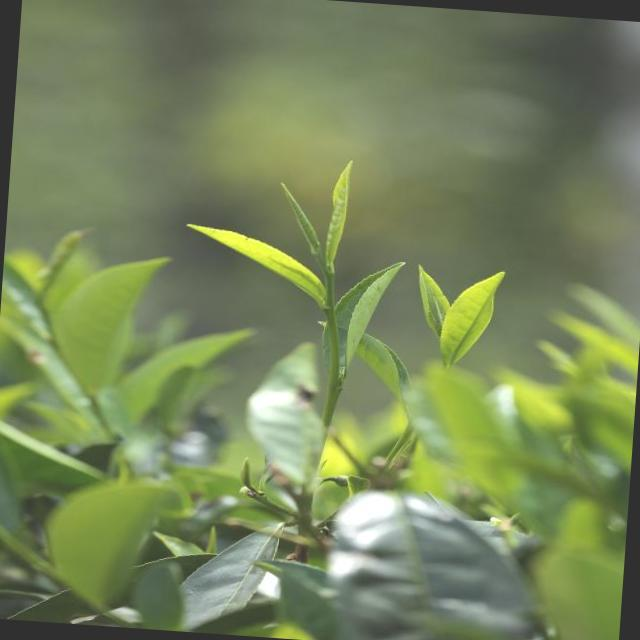Stem: (326, 303, 334, 315)
